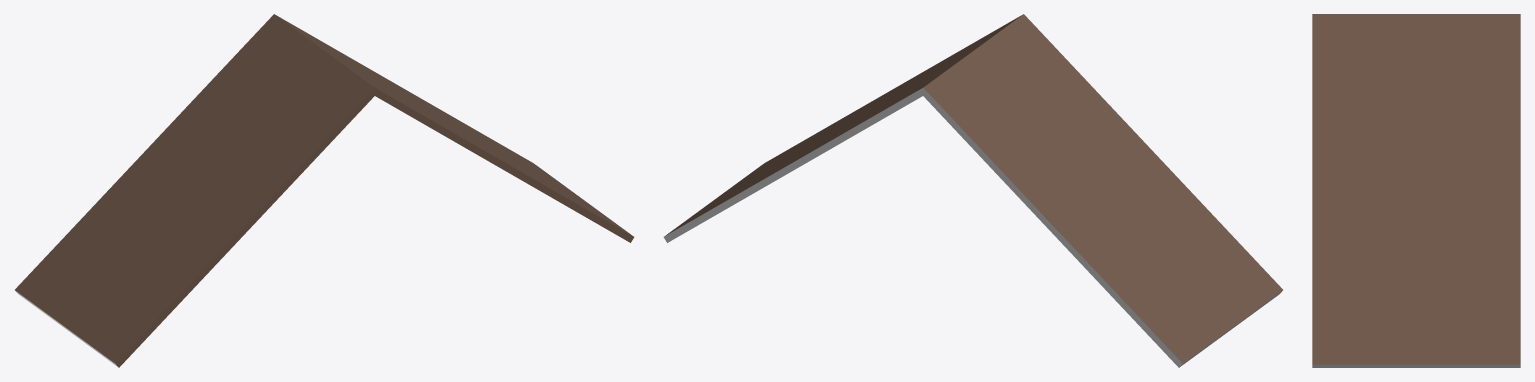
File: Roof2_C2_03.fbx
3 renders of one model, left to right at view 1: azimuth 30°, elevation 25°; view 2: azimuth 150°, elevation 25°; view 3: azimuth 270°, elevation 25°, orthographic. The views are drawn at different scales.
Parts seen in each view (by area): view 1: Roof2_C2_03; view 2: Roof2_C2_03; view 3: Roof2_C2_03.
Boxes of the visible parts, x1,y1,x2,y2 form: Roof2_C2_03: (15,14,634,367); Roof2_C2_03: (663,14,1282,367); Roof2_C2_03: (1312,14,1520,367).
Size of the model in its own units: 833 by 334 by 280.
